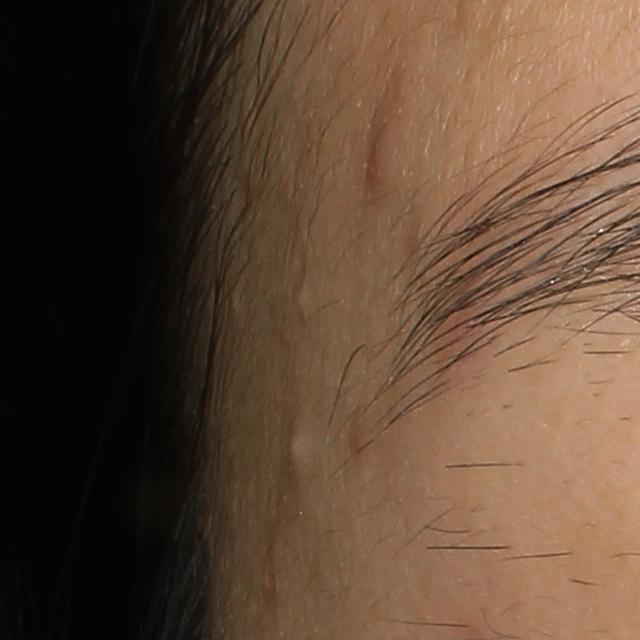comedo: (294, 285, 310, 312), (499, 0, 512, 20)
